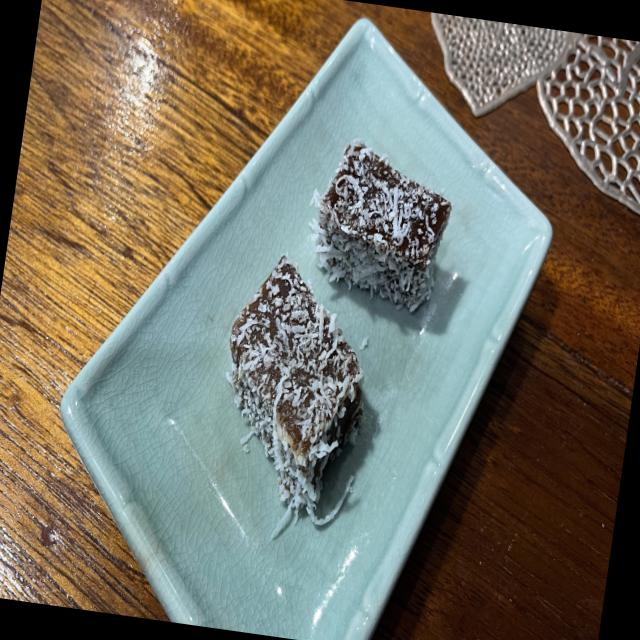kaswi: (228, 256, 363, 540), (311, 139, 451, 313)
